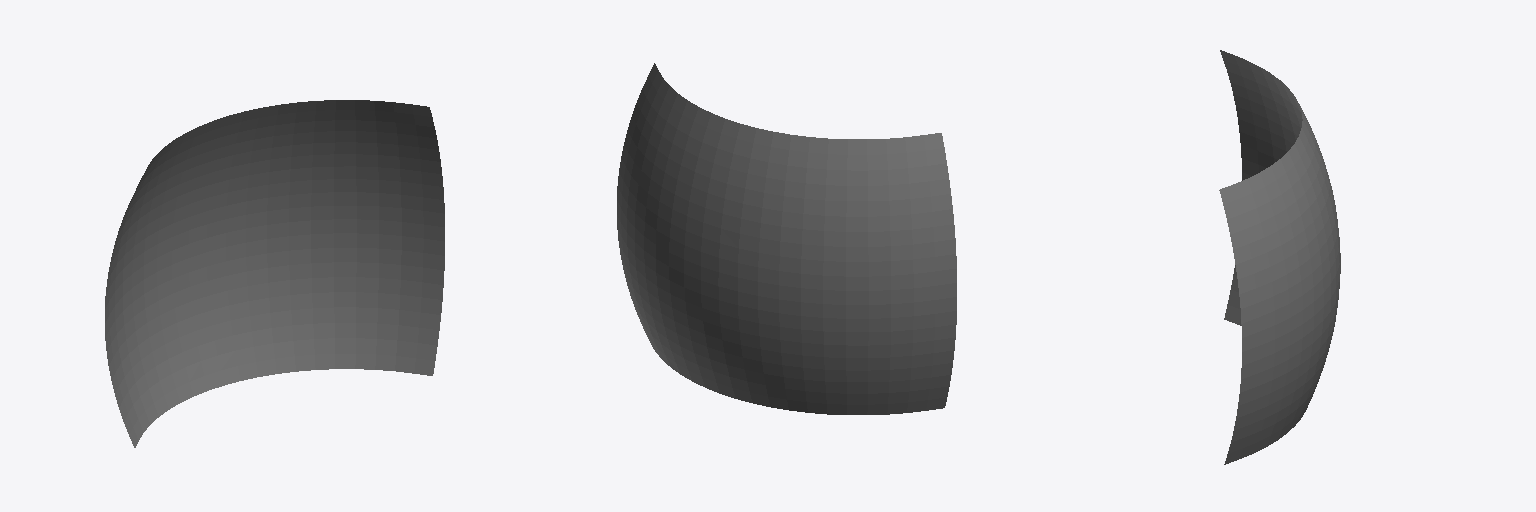
The model's file is vidro.obj.
3 views of the same model, side by side, from view 1: azimuth 30°, elevation 25°; view 2: azimuth 150°, elevation 25°; view 3: azimuth 270°, elevation 25° (orthographic).
Parts seen in each view (by area): view 1: frente:polySurface5; view 2: frente:polySurface5; view 3: frente:polySurface5.
Part boxes in pixels (x1,y1,x2,y2): frente:polySurface5: (105, 100, 444, 447); frente:polySurface5: (617, 63, 956, 414); frente:polySurface5: (1219, 50, 1340, 464).
Size of the model in its own units: 63.3 by 48.43 by 19.54.